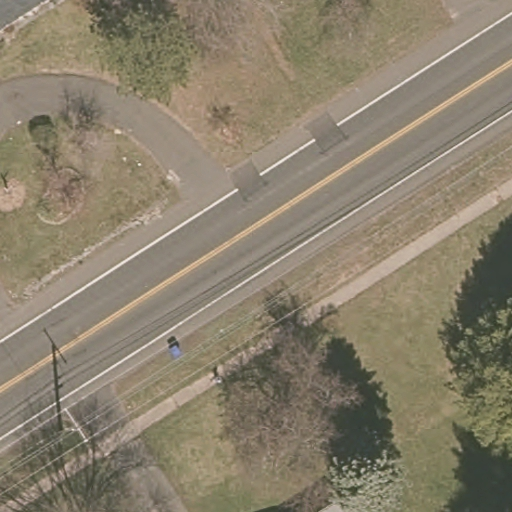DT: (62, 408, 88, 445)
